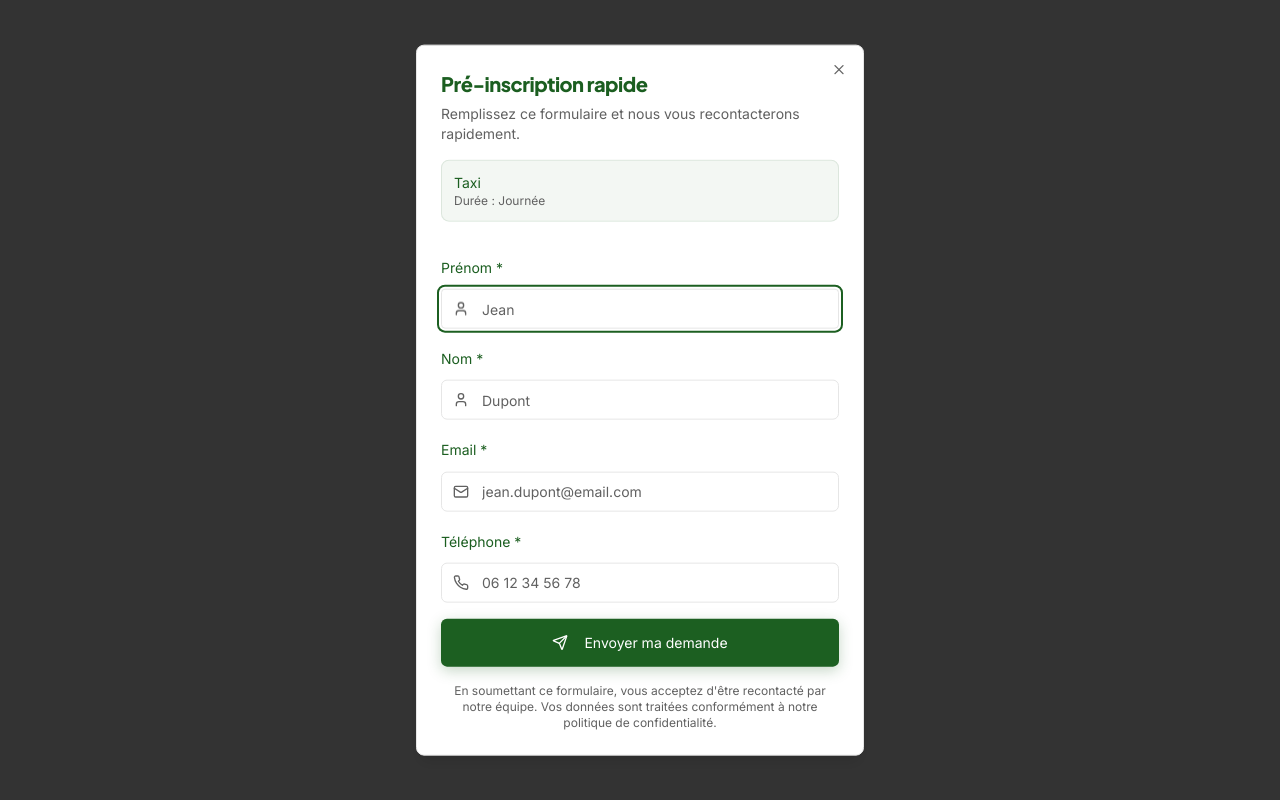
successful saved requests only › notification failure does not lose a successfully saved lead
Type "Test" into the field with placeholder "Jean" at (640, 309), box 441,289 -> 839,329
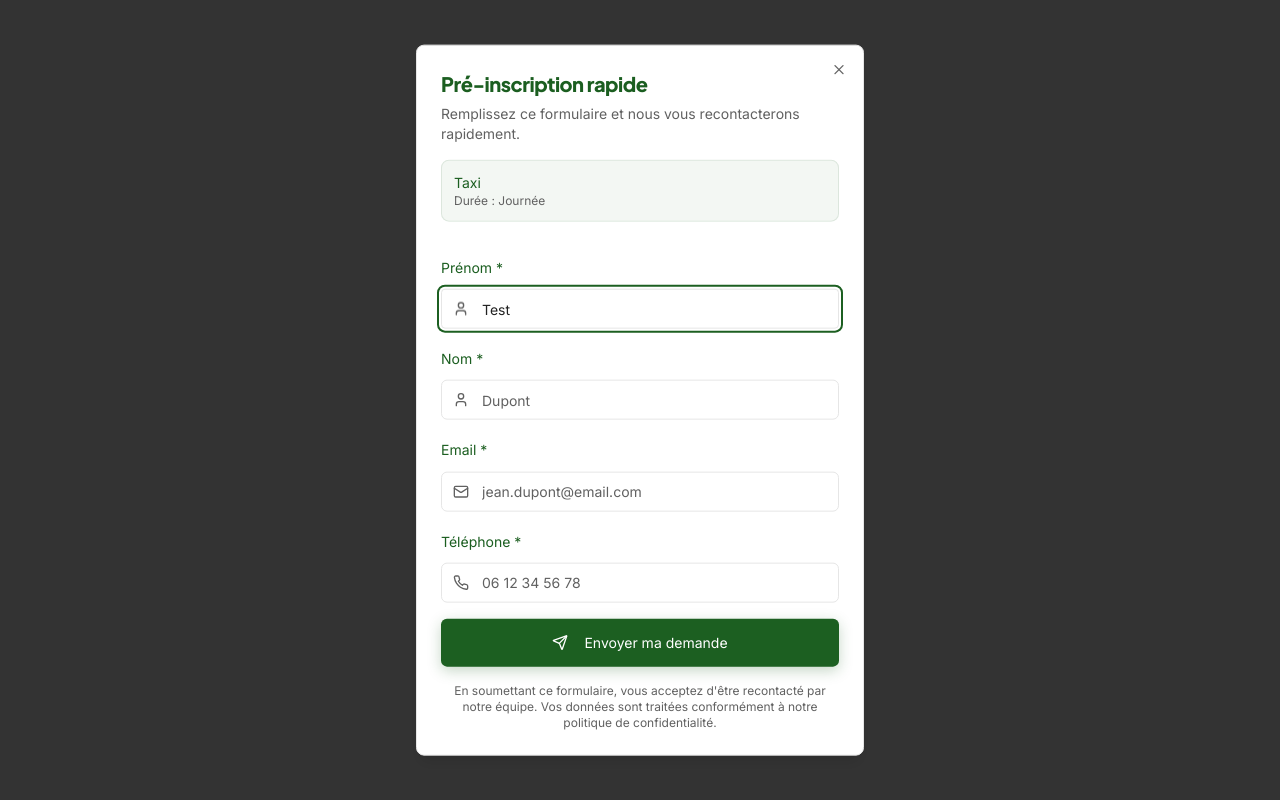
Type "Conversion" into the field with placeholder "Dupont" at (640, 400), box 441,380 -> 839,420
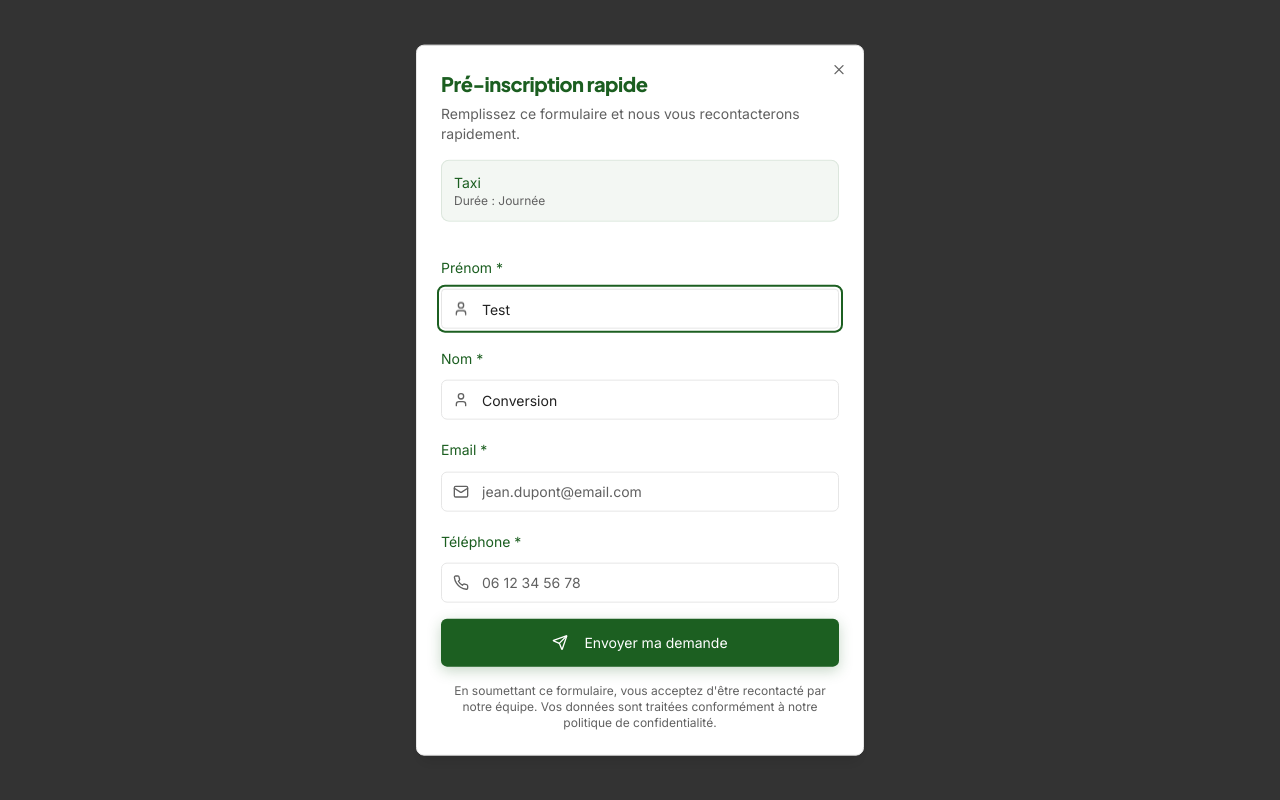
Type "test@example.com" into the field with placeholder "jean.dupont@email.com" at (640, 491), box 441,471 -> 839,511
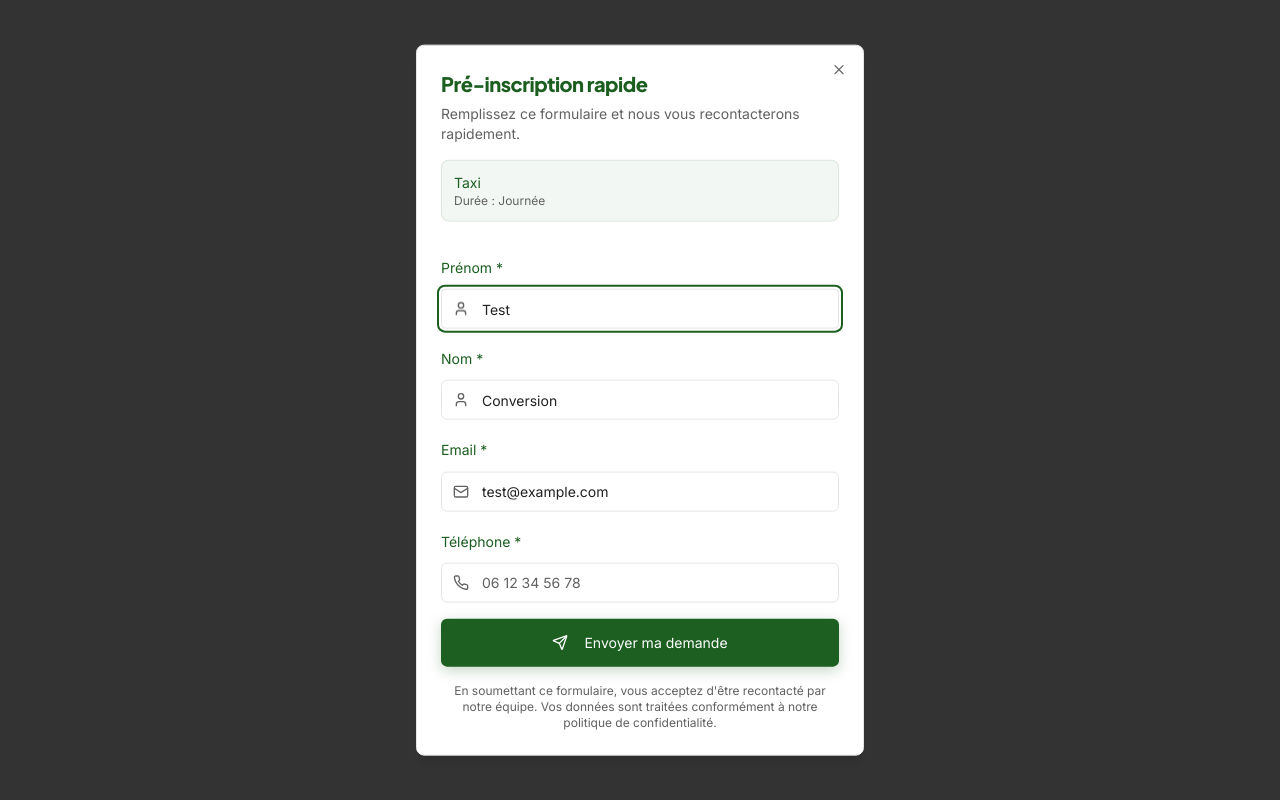
Type "0612345678" into the field with placeholder "06 12 34 56 78" at (640, 582), box 441,562 -> 839,602
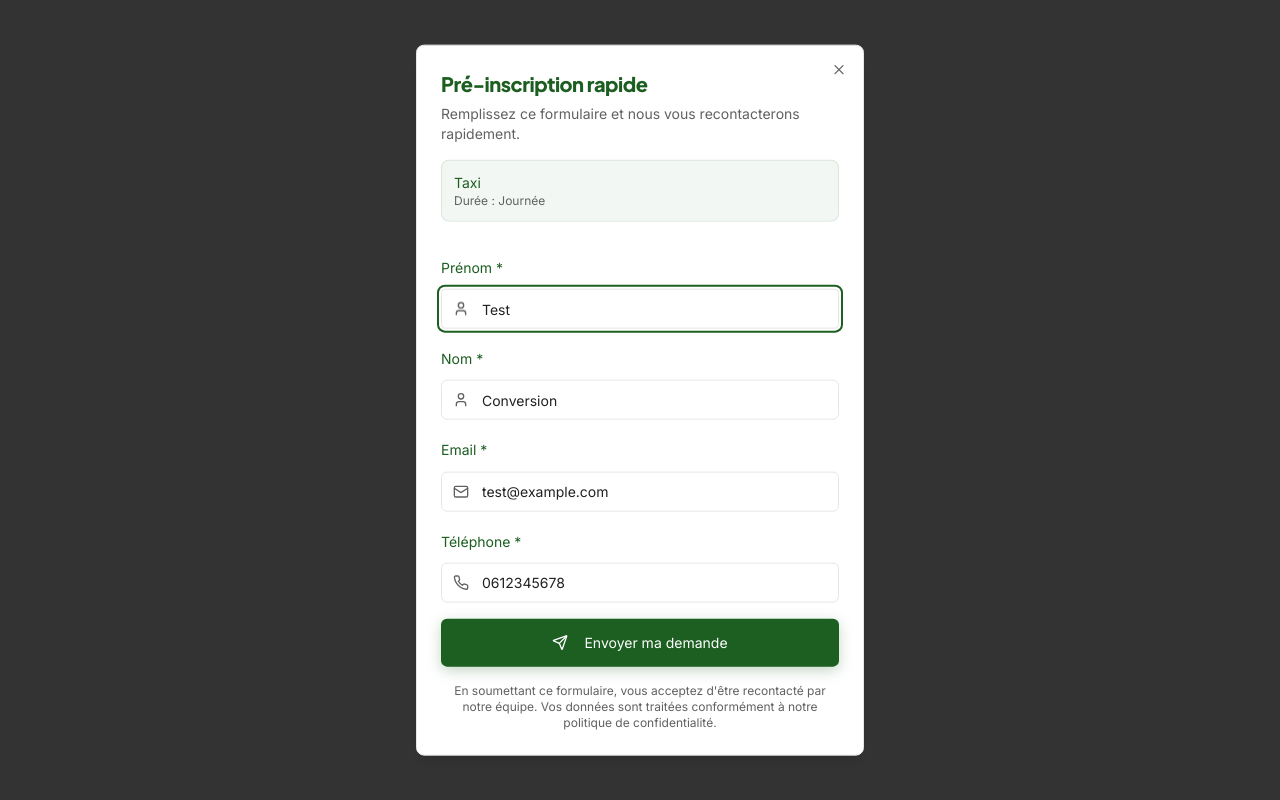
Submit the form, box 441,254 -> 839,730
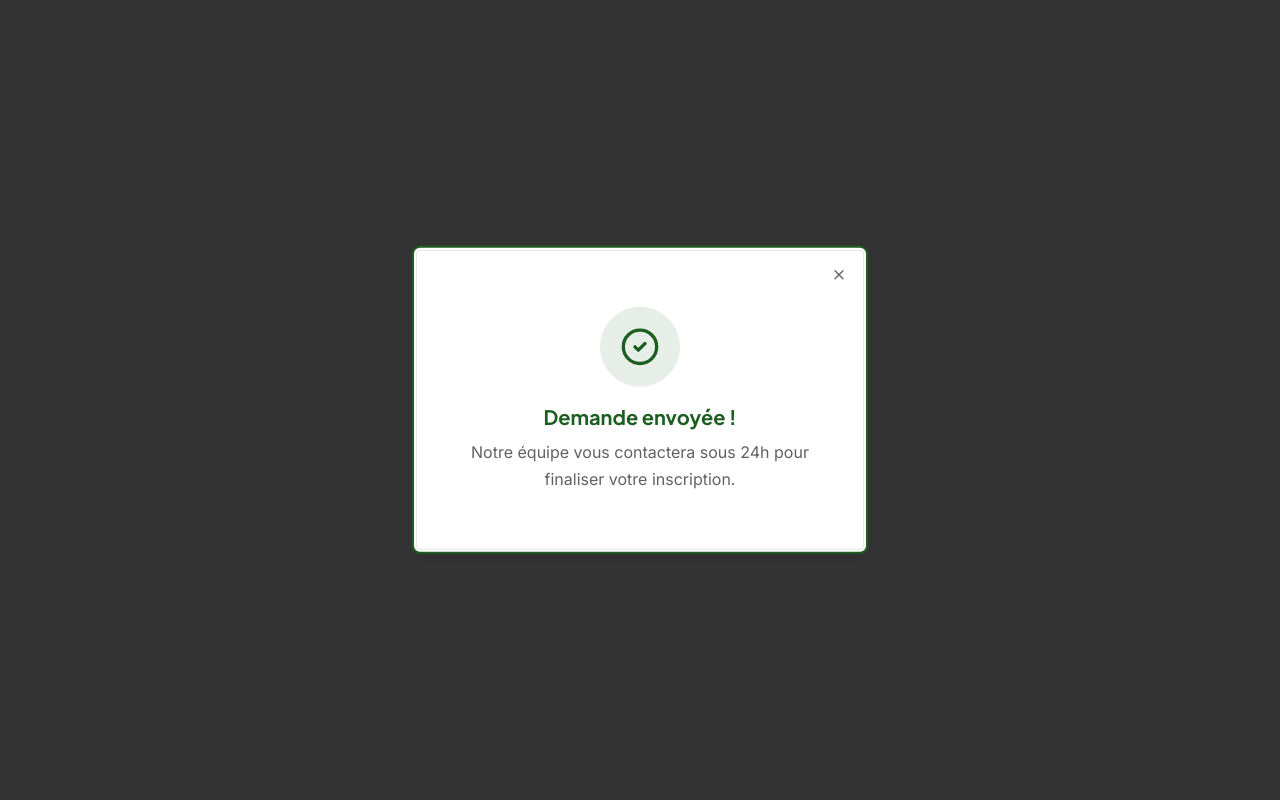
Check: the heading "Demande envoyée !" is shown, box 544,404 -> 737,429
